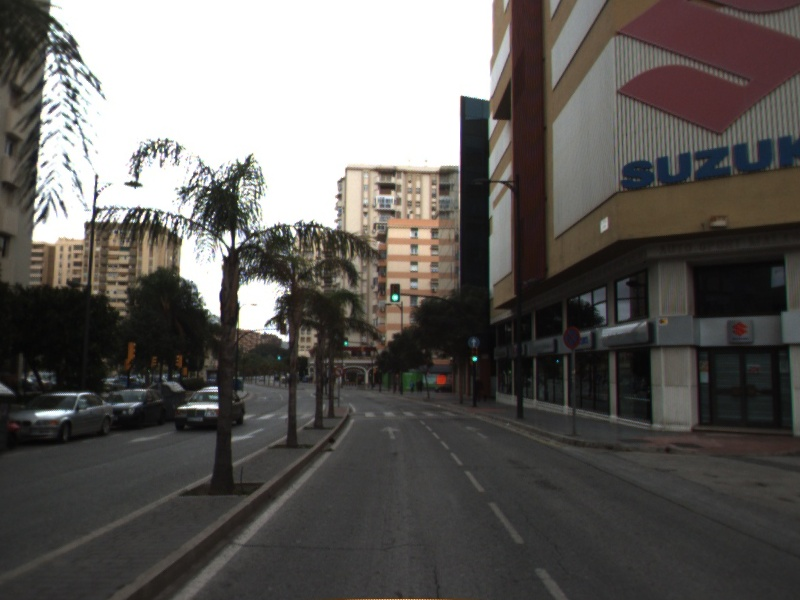STRAIGHT: (377, 423, 404, 442), (463, 424, 491, 440)
